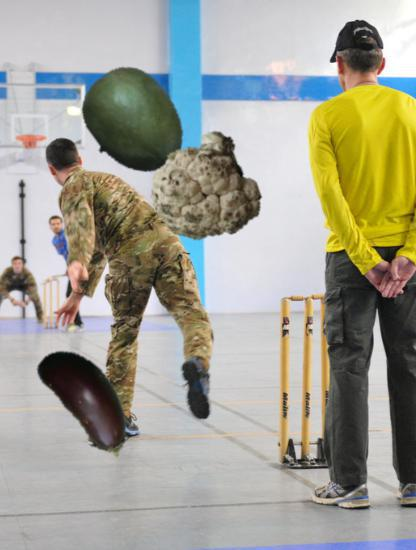Cauliflower: (150, 134, 259, 243)
Eggplant: (24, 338, 149, 463)
Mango: (76, 64, 193, 181)
